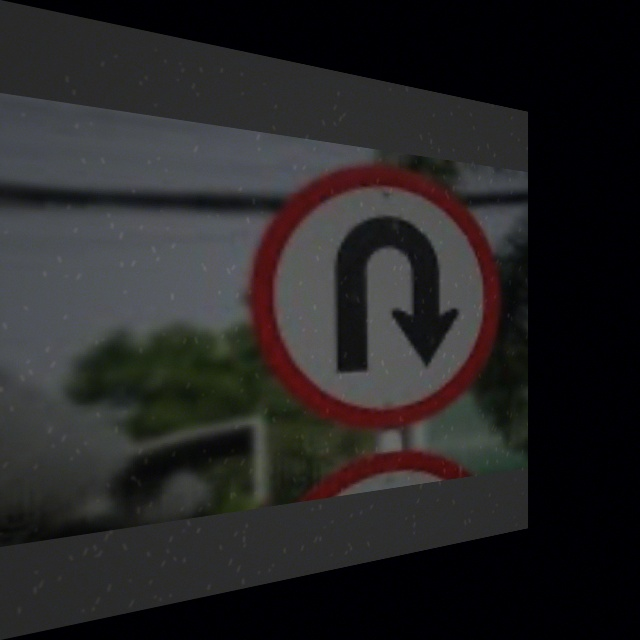U_Turn_Ahead: (254, 158, 498, 424)
